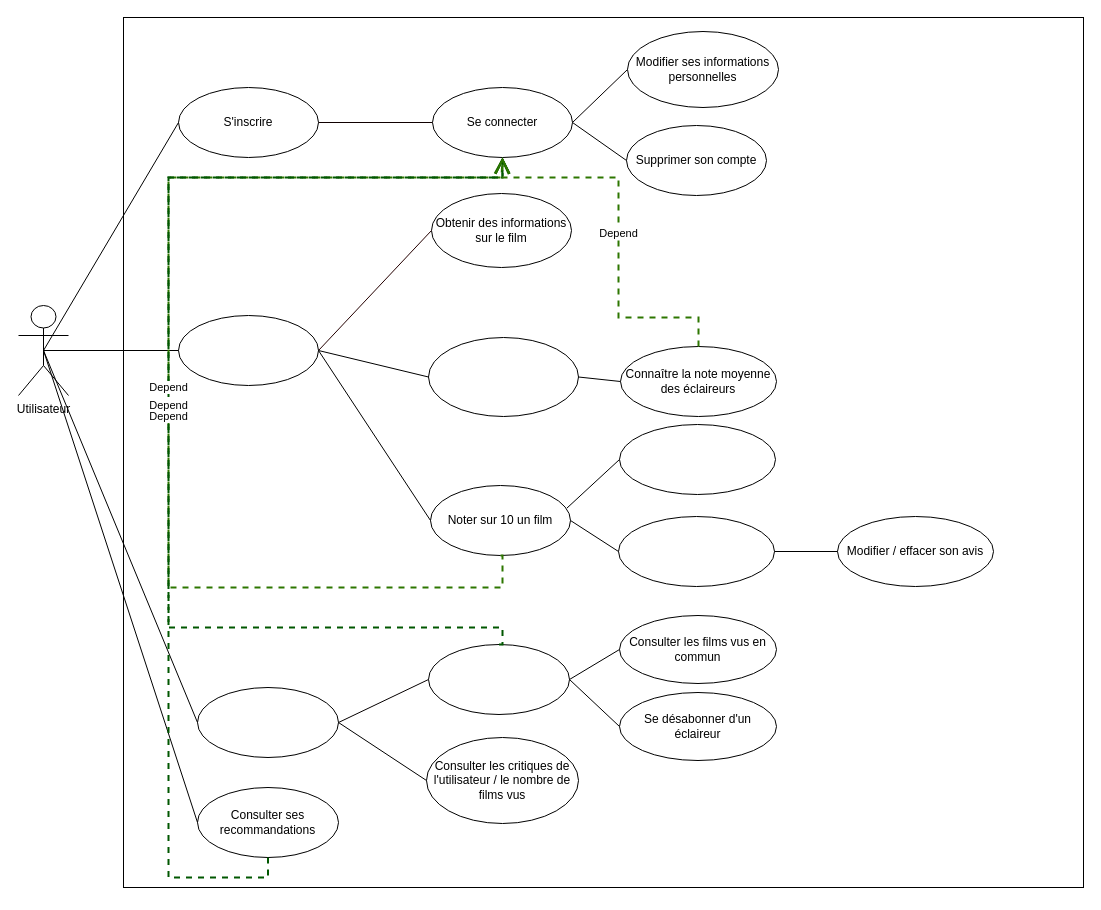
The diagram is 1101 pixels wide and 910 high, and some of its shapes have lost their labels. Each missing label, with the box of its shape:
Ajouter un utilisateur en éclaireur: (428, 644, 570, 714)
Consulter les avis/ la note sur un film: (428, 336, 578, 416)
Modifier/ Effacer sa note: (618, 424, 776, 494)
Recherche filtrée de film: (178, 314, 318, 386)
Rechercher un autre utilisateur: (196, 686, 338, 758)
Rédiger un avis sur un film: (618, 516, 774, 586)
